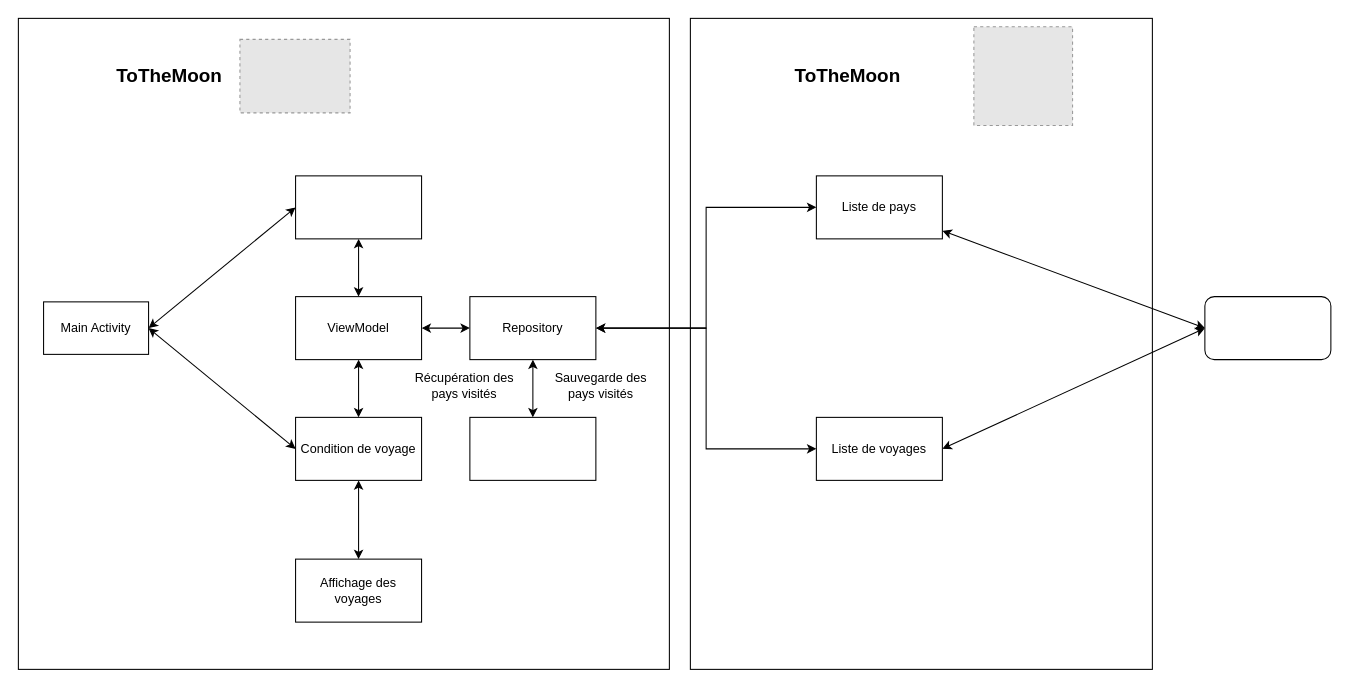
Image size: 1349x688. Some labels were removed from this diagram. Grey dashed boxes stand in for pictures. Each missing label, with the centre of its shape:
"API Skyscanner" goes at point 1267,328.
"Bdd Interne" goes at point 532,448.
"Selection des pays visités" goes at point 358,207.
